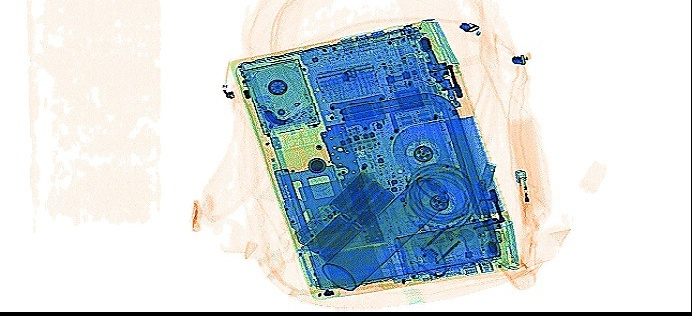lighter: (511, 166, 540, 232)
powerbank: (291, 166, 393, 264)
pressure: (321, 171, 453, 290)
